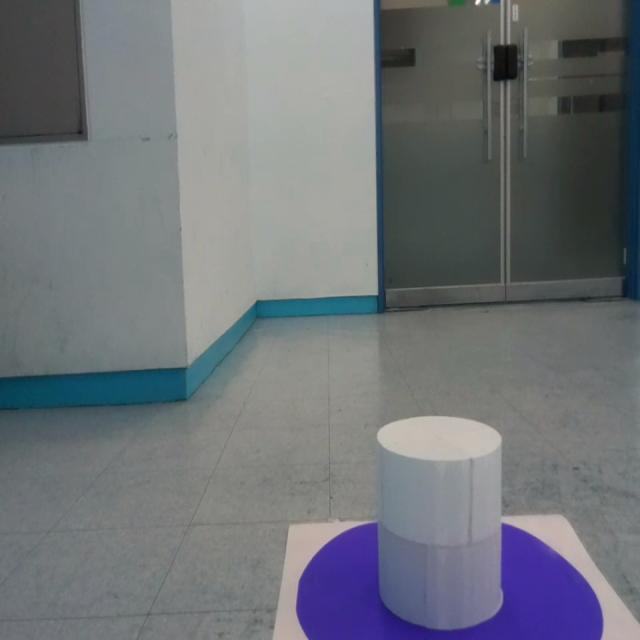cylinder: (375, 416, 503, 631)
